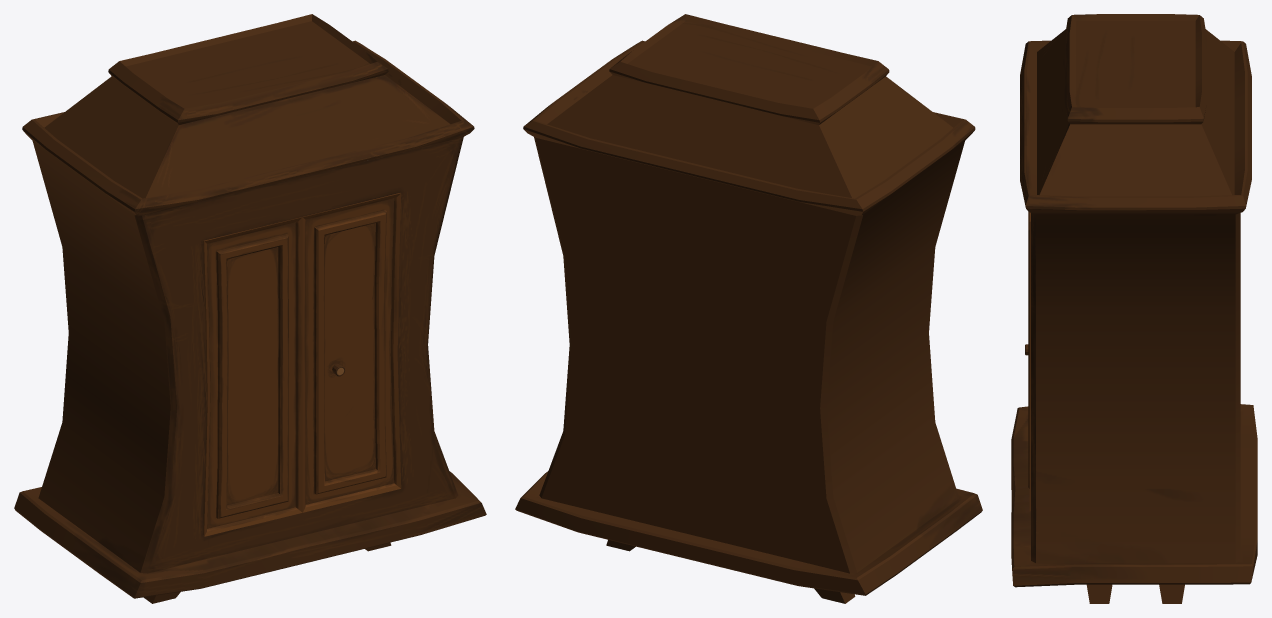
Rendered from Wardrobe.fbx.
The picture shows the model from 3 angles, left to right: view 1: azimuth 30°, elevation 25°; view 2: azimuth 150°, elevation 25°; view 3: azimuth 270°, elevation 25°; orthographic projection. The views are drawn at different scales.
Parts seen in each view (by area): view 1: Wardrobe, Doors; view 2: Wardrobe; view 3: Wardrobe, Doors.
Boxes of the visible parts, bbox=[...] form: Wardrobe: bbox=[14, 14, 486, 603]; Doors: bbox=[203, 193, 401, 536]; Wardrobe: bbox=[515, 14, 982, 603]; Wardrobe: bbox=[1011, 14, 1257, 603]; Doors: bbox=[1028, 212, 1030, 510].
Size of the model in its own units: 295 by 391 by 180.
